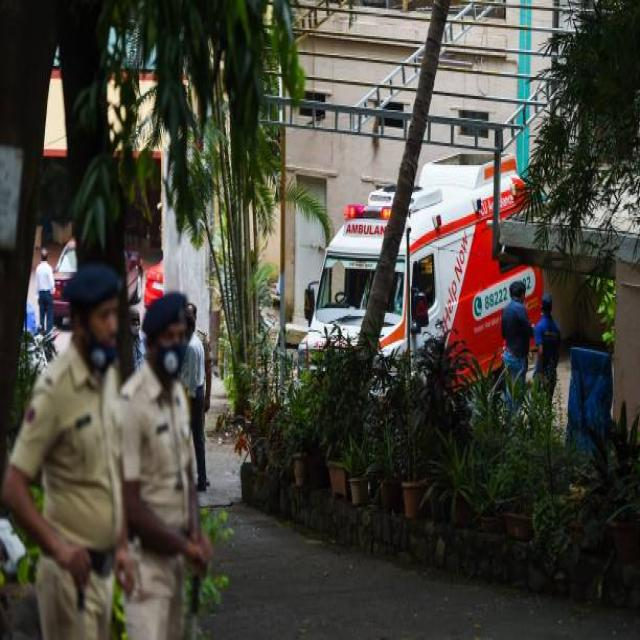ambulance: (298, 154, 546, 416)
